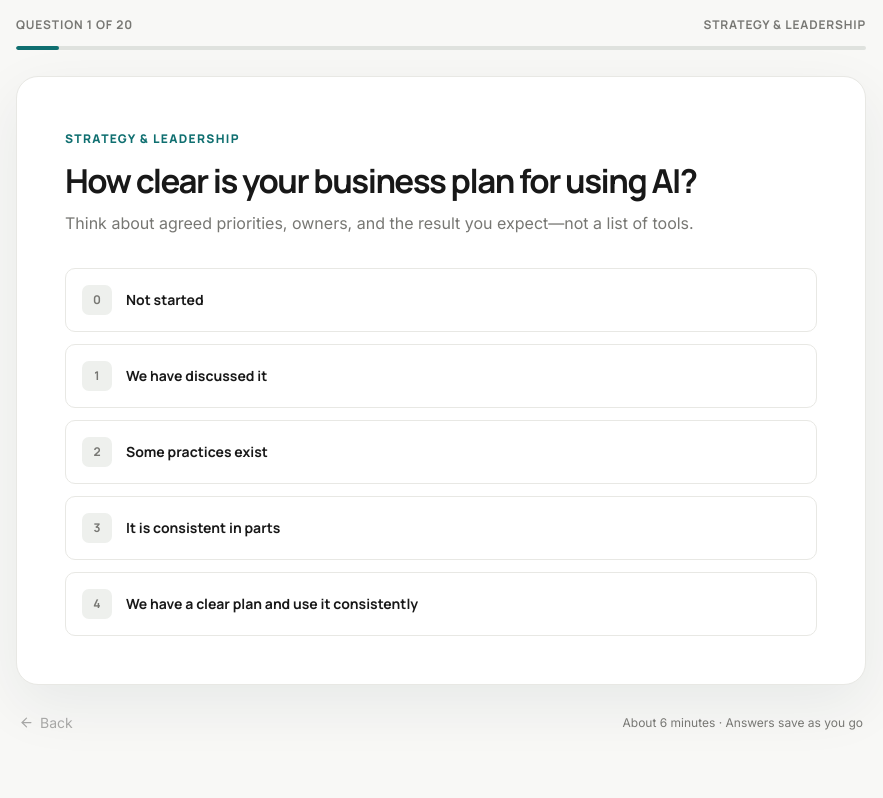
Test case: ScorecardClient › offers a previous-question control after progress begins
Click the button "4 We have a clear plan and use it consistently" at (272, 604), box [65,572,817,636]
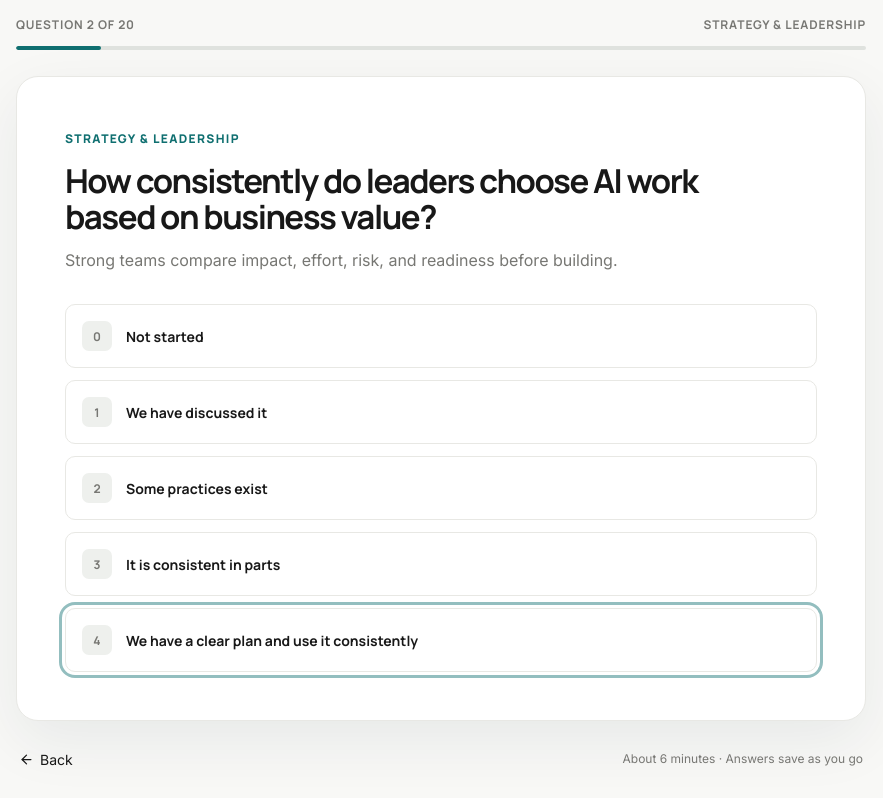
Click the button "Back" at (46, 759), box [19,737,73,781]
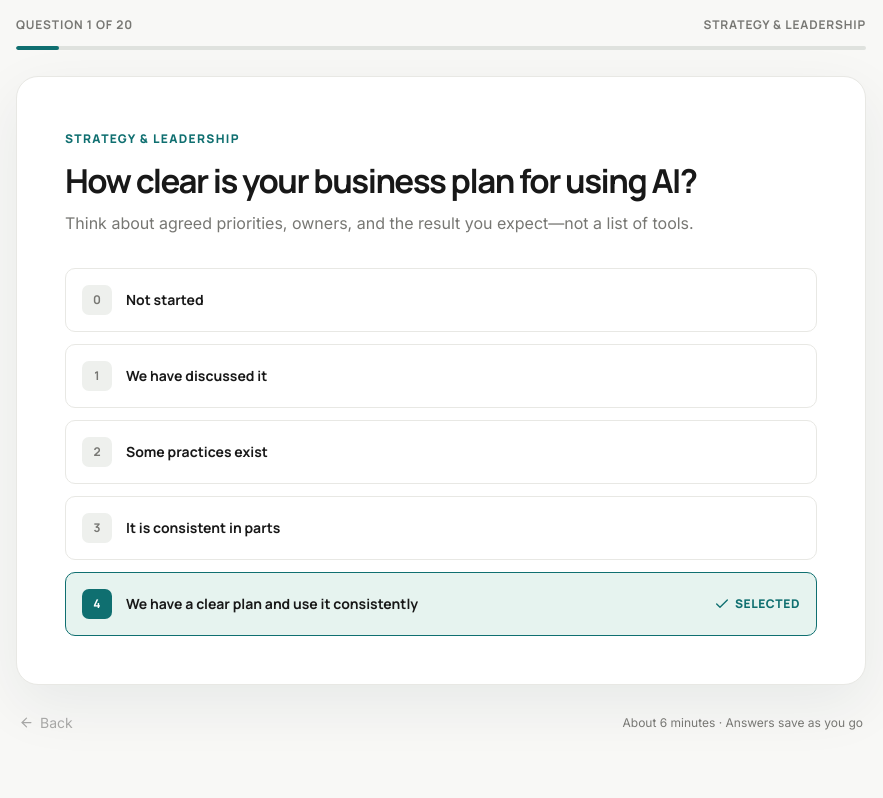
Expected: the text "Question 1 of 20" is shown, [16,16,133,33]
